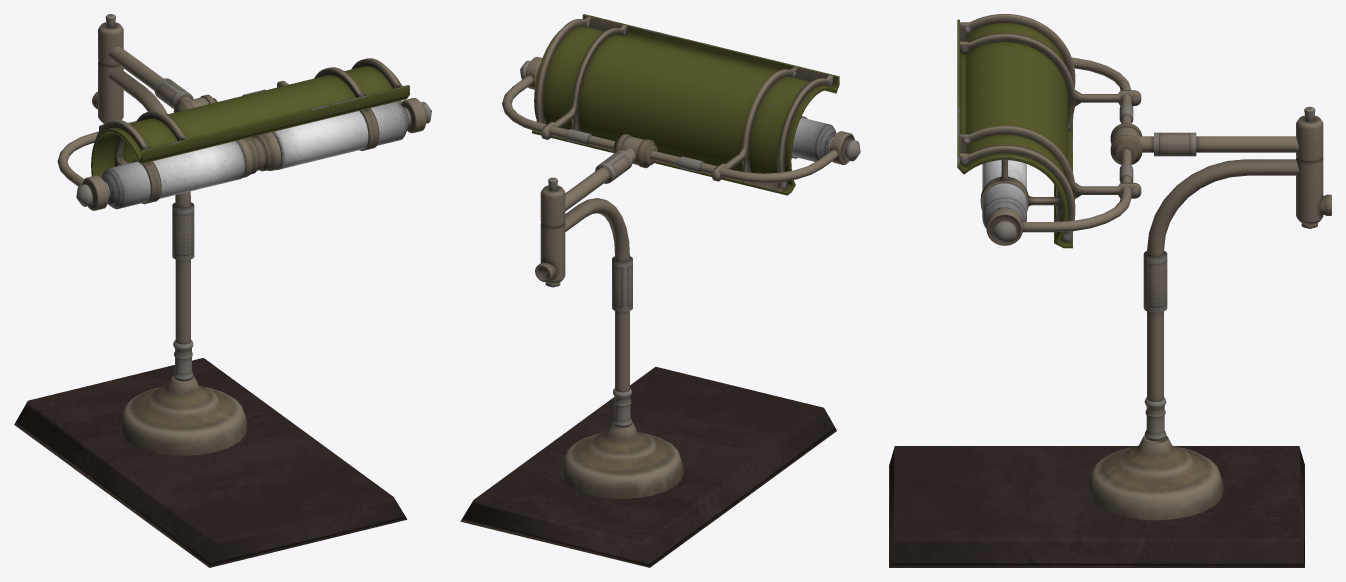
Rendered from DeskLamp.fbx.
3 renders of one model, left to right at view 1: azimuth 30°, elevation 25°; view 2: azimuth 150°, elevation 25°; view 3: azimuth 270°, elevation 25°, orthographic. The views are drawn at different scales.
Parts seen in each view (by area): view 1: object_0.001; view 2: object_0.001; view 3: object_0.001.
Boxes of the visible parts, x1,y1,x2,y2 form: object_0.001: (14,14,431,567); object_0.001: (460,14,860,567); object_0.001: (889,14,1331,567).
Size of the model in its own units: 2064 by 2273 by 2092.
